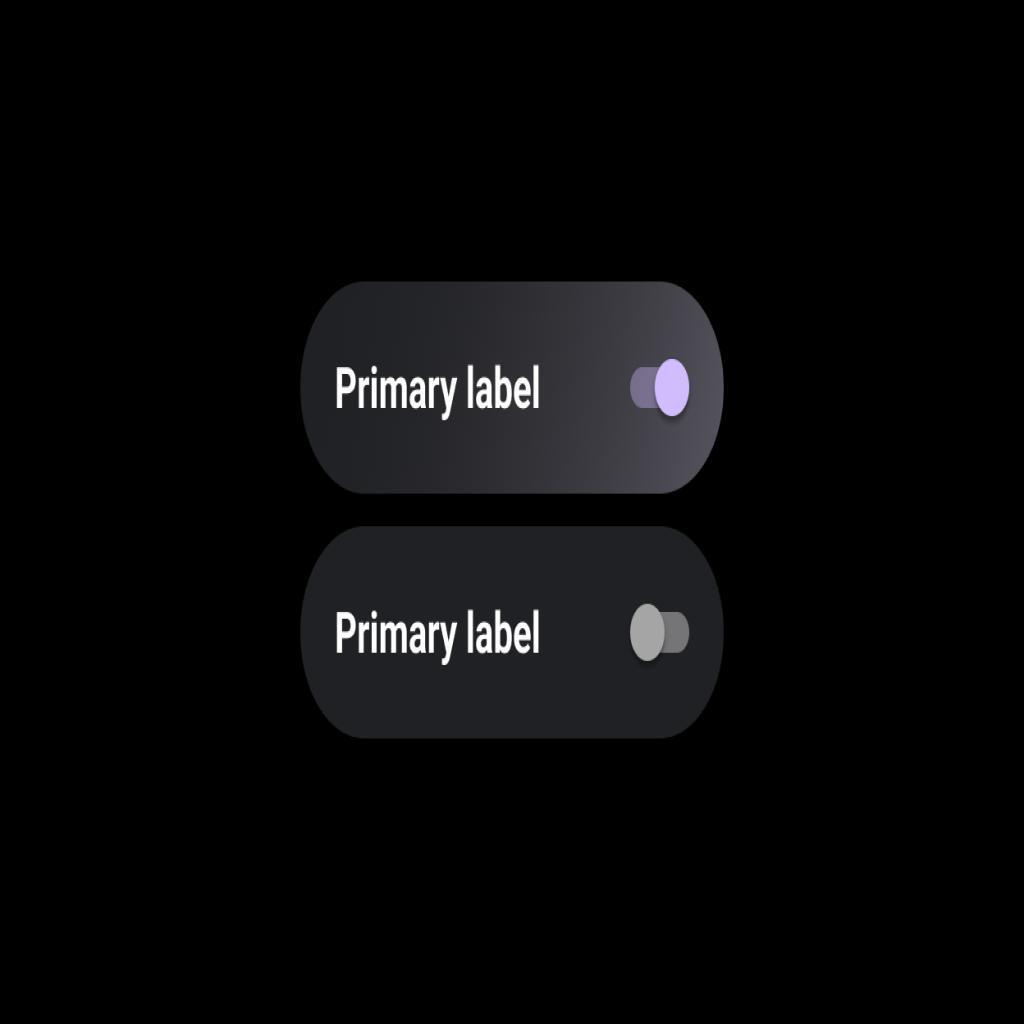label: (332, 611, 548, 667), (332, 365, 548, 413)
switch: (623, 359, 699, 425), (629, 597, 696, 668)
